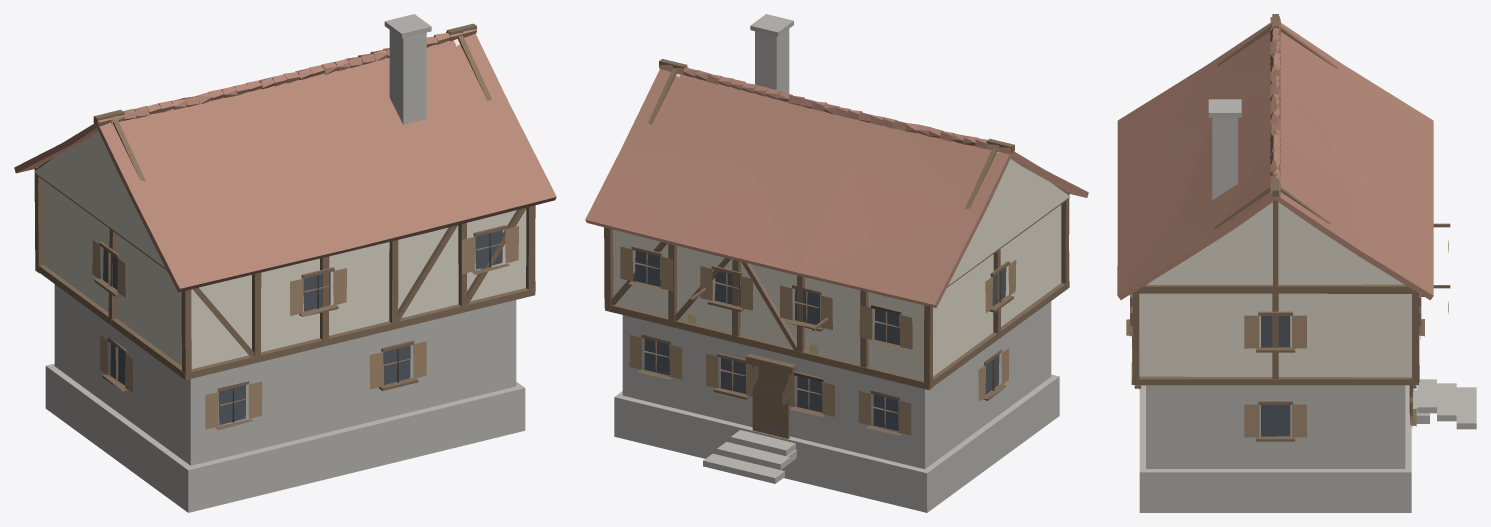
File: vogthaus_lod1.glb
3 views of the same model, side by side, from view 1: azimuth 30°, elevation 25°; view 2: azimuth 150°, elevation 25°; view 3: azimuth 270°, elevation 25° (orthographic). The views are drawn at different scales.
Parts seen in each view (by area): view 1: vogthaus.001; view 2: vogthaus.001; view 3: vogthaus.001.
Part boxes in pixels (box(x1,y1,x2,y2)): vogthaus.001: box(14, 14, 556, 512); vogthaus.001: box(585, 14, 1088, 512); vogthaus.001: box(1117, 14, 1476, 512).
Bounding box in the file's own units: 12.7 × 12.51 × 10.9.
